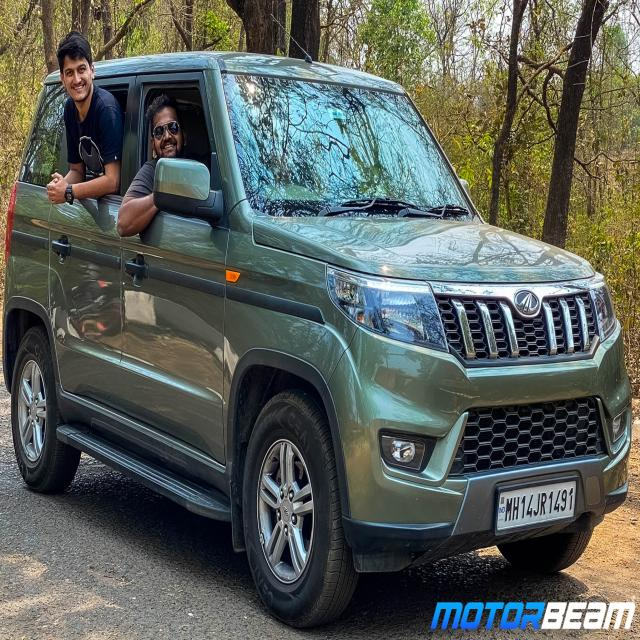light_vehicle: (6, 46, 633, 619)
